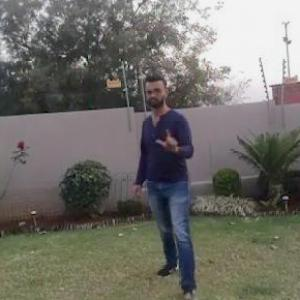land_hand: (157, 121, 181, 153)
